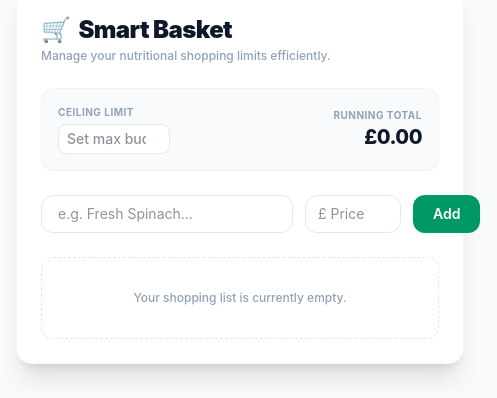
Smart Basket Domain Analysis › proves addition engine appends pricing matrices correctly
Type "Avocado Combo" into the field with placeholder "e.g. Fresh Spinach..." at (167, 214), box [41,195,293,233]
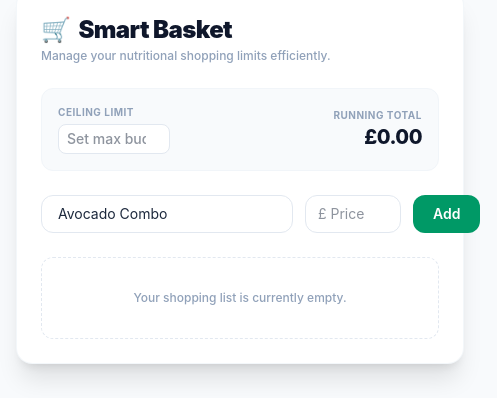
Type "4.25" into the number field with placeholder "£ Price" at (353, 214), box [305,195,401,233]
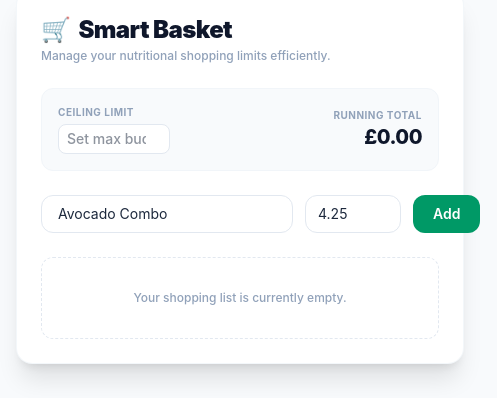
Click the button "Add" at (447, 214), box [413,195,480,233]
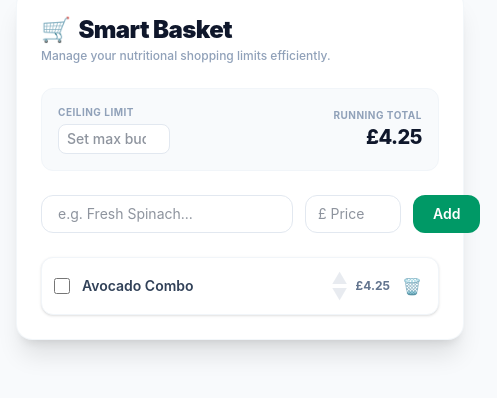
Expected: the text "Avocado Combo" is shown, [82,276,194,296]
Expected: the text with test id "item-cost" reads "£4.25", [356,278,390,294]
